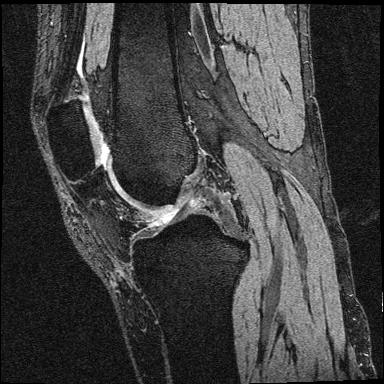SagKneeJointArea: (46, 100, 252, 286)
